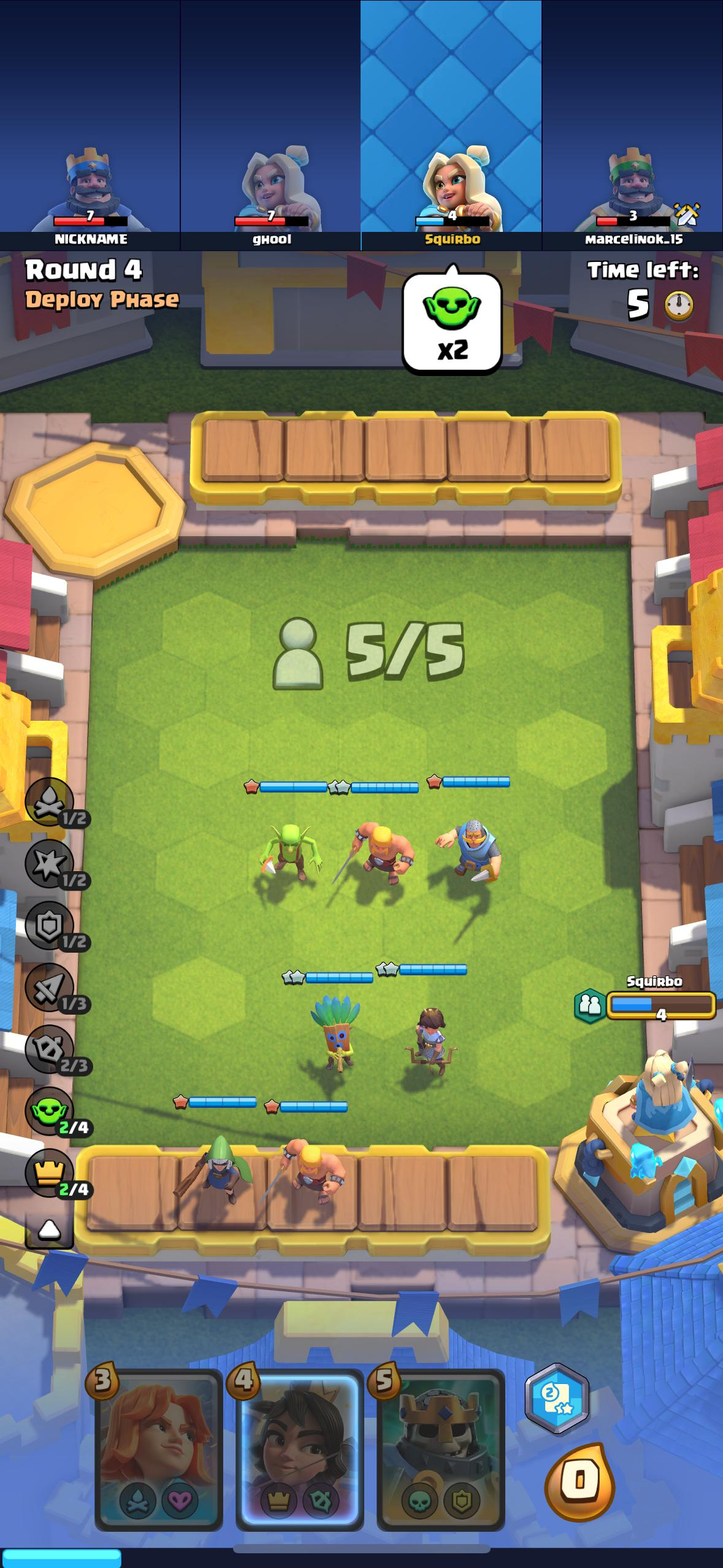bandit: (186, 1130, 252, 1203)
barbarian: (340, 815, 416, 883), (276, 1129, 344, 1203)
dart: (307, 995, 357, 1067)
goblin: (257, 816, 328, 888)
hand-king: (377, 1373, 502, 1529)
hand-princess: (237, 1371, 358, 1524)
hand-valkyrie: (95, 1372, 222, 1527)
knight: (433, 813, 503, 891)
princess: (400, 1003, 452, 1079)
